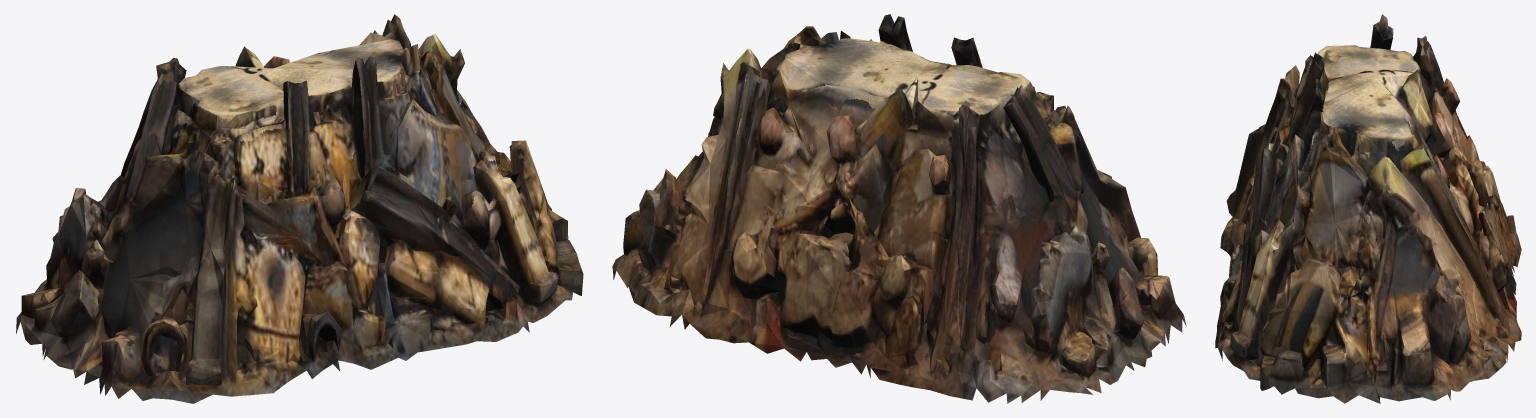
File: t-heavy-rubble.glb
3 views of the same model, side by side, from view 1: azimuth 30°, elevation 25°; view 2: azimuth 150°, elevation 25°; view 3: azimuth 270°, elevation 25° (orthographic). The views are drawn at different scales.
Visible parts, largest first — view 1: d.obj; view 2: d.obj; view 3: d.obj.
Boxes of the visible parts, x1,y1,x2,y2 form: d.obj: (16,14,583,403); d.obj: (612,14,1186,403); d.obj: (1215,14,1521,403).
Size of the model in its own units: 3 by 1.5 by 1.8.
1 material, 1 textured.
